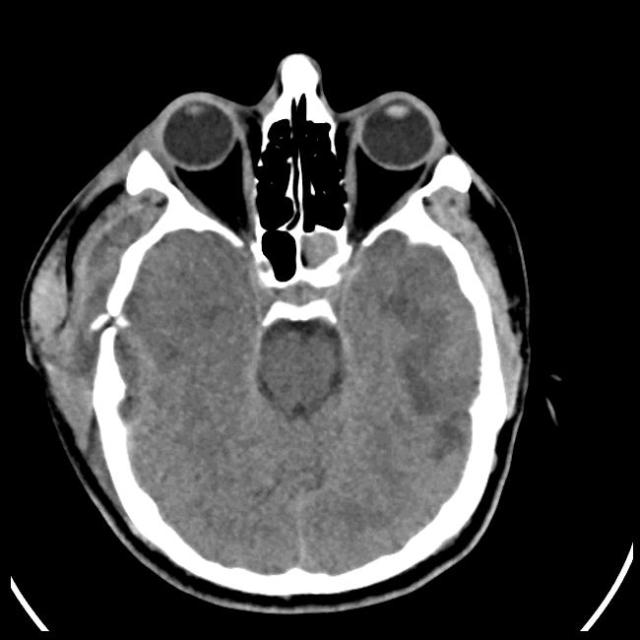lesion: (21, 52, 536, 607)
